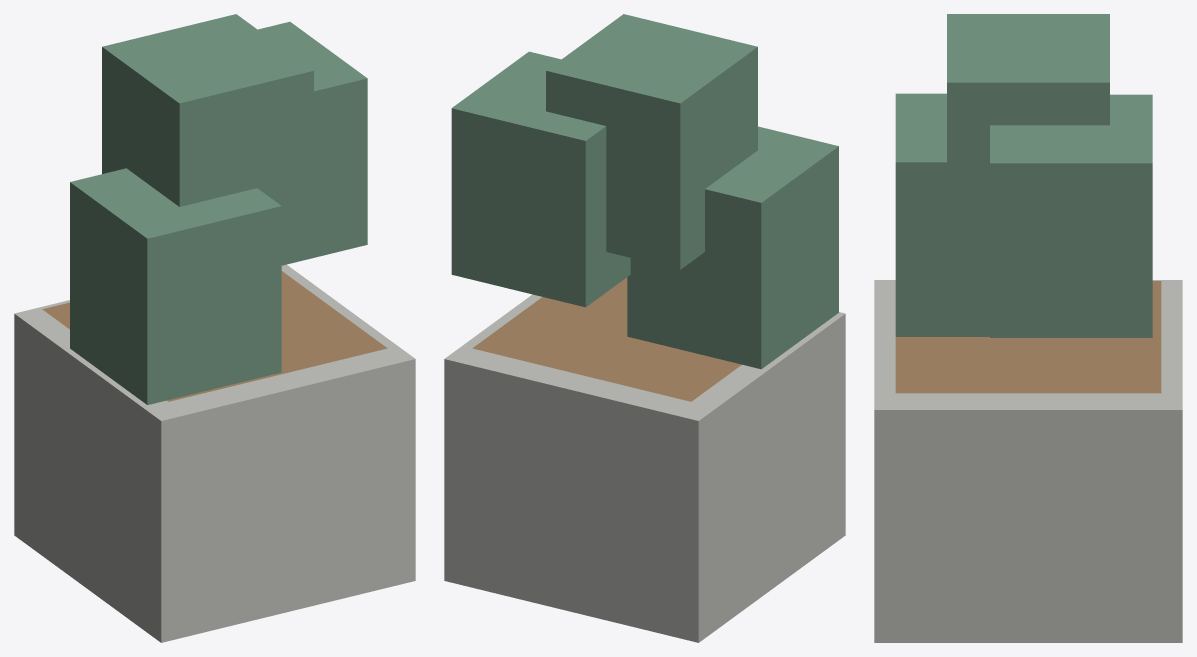
The model's file is q01-planter.glb.
3 views of the same model, side by side, from view 1: azimuth 30°, elevation 25°; view 2: azimuth 150°, elevation 25°; view 3: azimuth 270°, elevation 25° (orthographic). The views are drawn at different scales.
Bounding box in the file's own units: 0.75 × 1.36 × 0.72.
